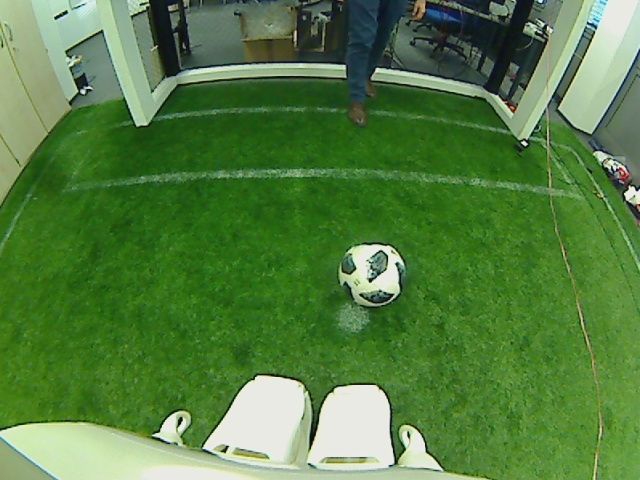ball: (336, 238, 407, 311)
